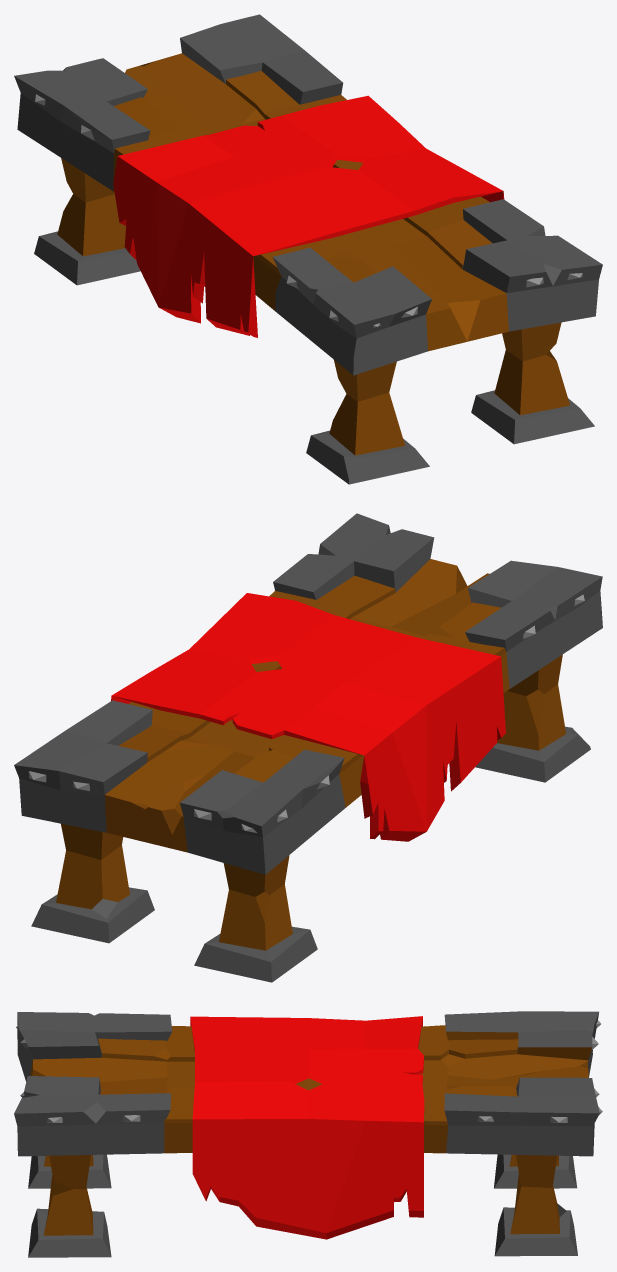
File: mesa.fbx
3 renders of one model, top to bottom at view 1: azimuth 30°, elevation 25°; view 2: azimuth 150°, elevation 25°; view 3: azimuth 270°, elevation 25°, orthographic. The views are drawn at different scales.
Parts seen in each view (by area): view 1: Cube; view 2: Cube; view 3: Cube.
Boxes of the visible parts, bbox=[...] form: Cube: bbox=[14, 14, 602, 484]; Cube: bbox=[14, 513, 602, 982]; Cube: bbox=[14, 1011, 602, 1257].
Size of the model in its own units: 691 by 416 by 1512.
1 material, 1 textured.
